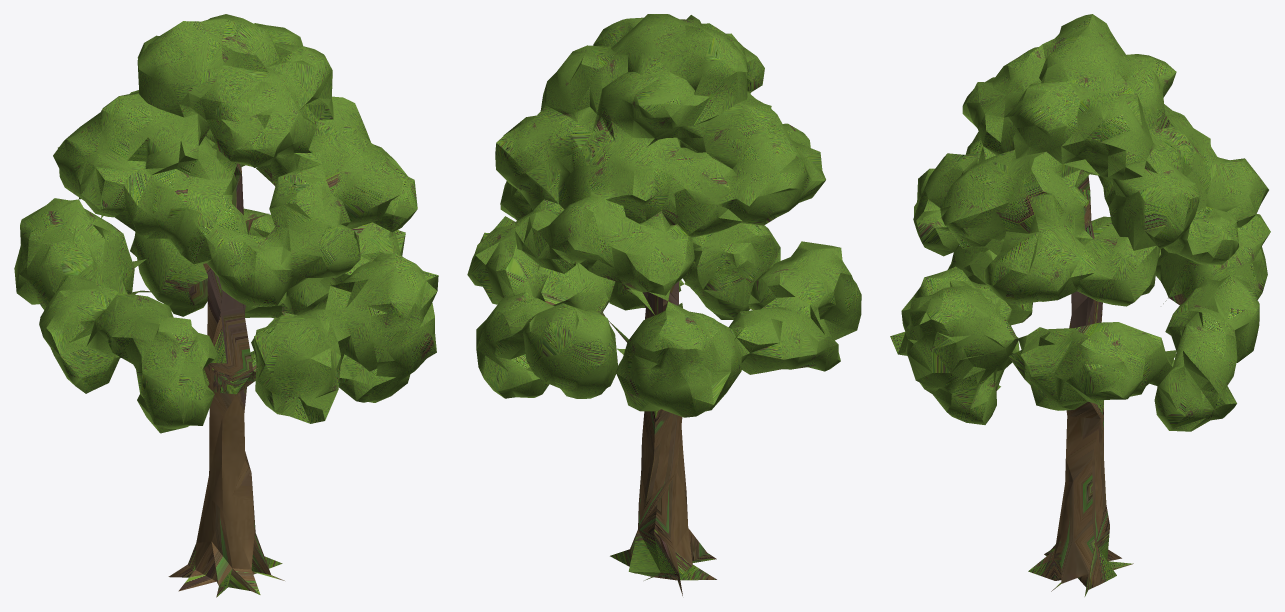
Rendered from arvore_carvalho.glb.
3 renders of one model, left to right at view 1: azimuth 30°, elevation 25°; view 2: azimuth 150°, elevation 25°; view 3: azimuth 270°, elevation 25°, orthographic. The views are drawn at different scales.
Visible parts, largest first — view 1: mascara; view 2: mascara; view 3: mascara.
Part boxes in pixels (left/top/right/bottom): mascara: left=14, top=14, right=438, bottom=597; mascara: left=467, top=14, right=861, bottom=595; mascara: left=890, top=14, right=1270, bottom=596.
Bounding box in the file's own units: 1.23 × 1.89 × 1.2.
Materials: 1 (1 with a texture image).
